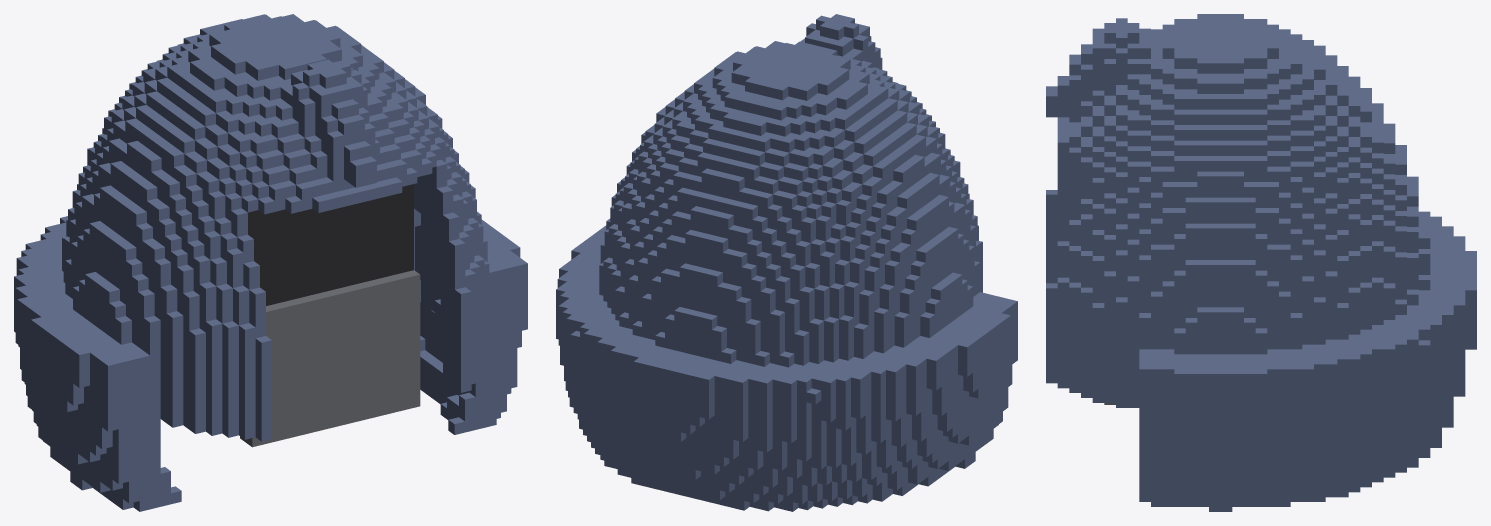
File: cloth_rare_helmet.glb
3 views of the same model, side by side, from view 1: azimuth 30°, elevation 25°; view 2: azimuth 150°, elevation 25°; view 3: azimuth 270°, elevation 25° (orthographic). The views are drawn at different scales.
Parts seen in each view (by area): view 1: cloth_rare_helmet; view 2: cloth_rare_helmet; view 3: cloth_rare_helmet.
Part boxes in pixels (left/top/right/bottom): cloth_rare_helmet: left=14, top=14, right=527, bottom=511; cloth_rare_helmet: left=556, top=14, right=1017, bottom=511; cloth_rare_helmet: left=1046, top=14, right=1476, bottom=511.
Size of the model in its own units: 0.504 by 0.444 by 0.444.
